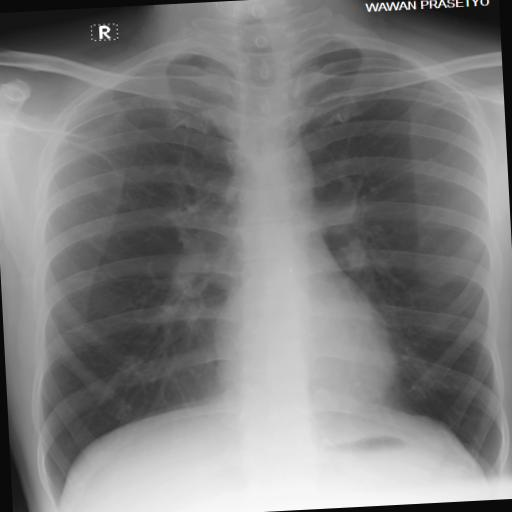normal: (6, 9, 512, 512)
